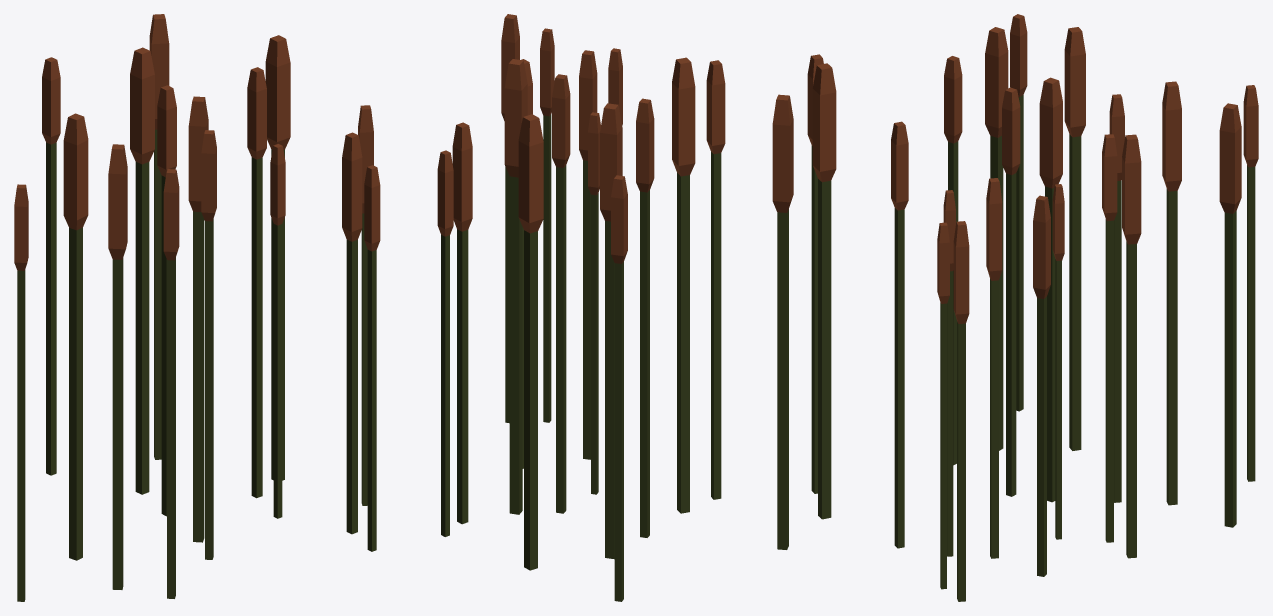
File: Reed Multi.fbx
The picture shows the model from 3 angles, left to right: view 1: azimuth 30°, elevation 25°; view 2: azimuth 150°, elevation 25°; view 3: azimuth 270°, elevation 25°; orthographic projection. The views are drawn at different scales.
Visible parts, largest first — view 1: Reed Multi; view 2: Reed Multi; view 3: Reed Multi.
Boxes of the visible parts, left/top/right/bottom form: Reed Multi: left=14, top=14, right=472, bottom=601; Reed Multi: left=501, top=14, right=908, bottom=601; Reed Multi: left=937, top=14, right=1258, bottom=601.
Size of the model in its own units: 2.78 by 2.75 by 1.91.
